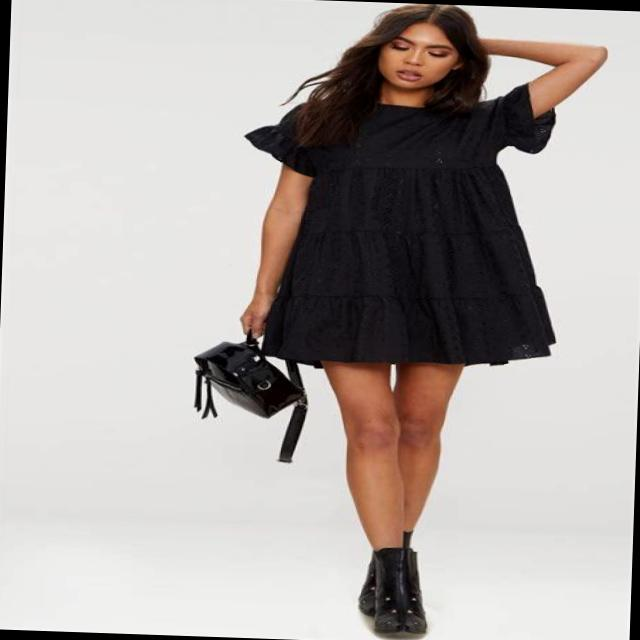dress: (236, 71, 564, 376)
